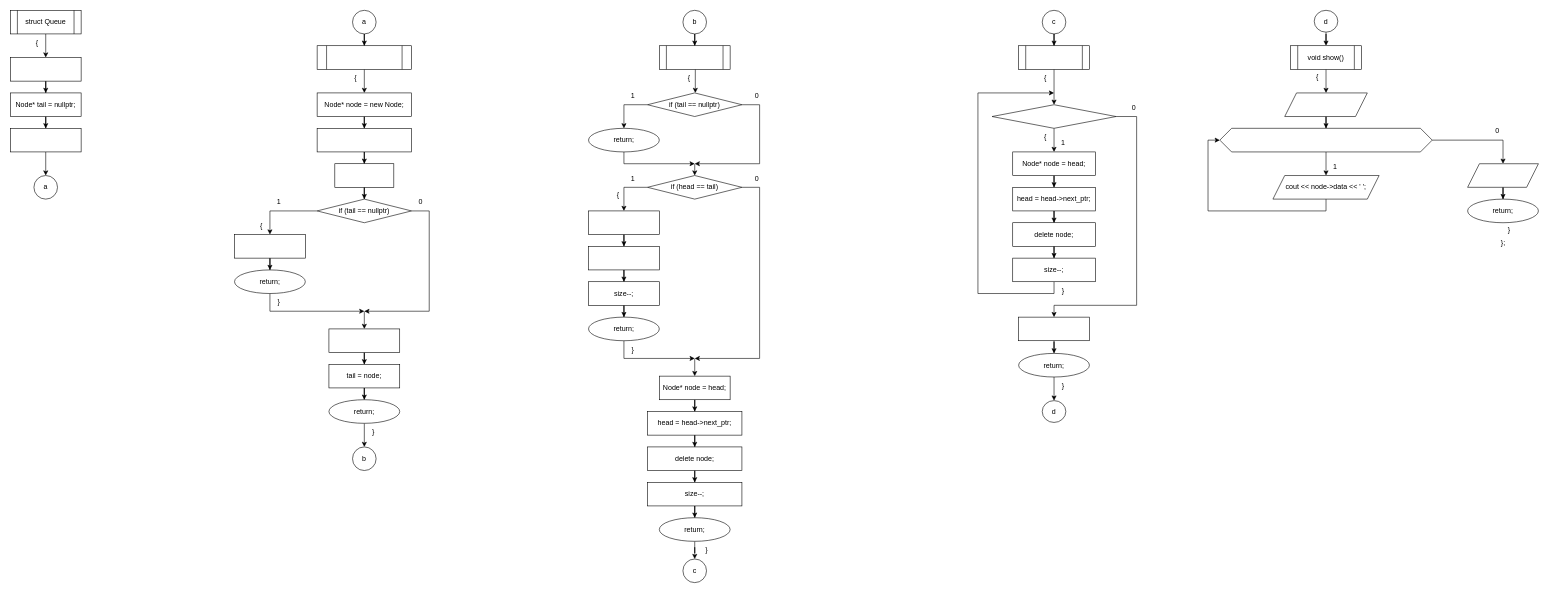
The diagram is 1549 pixels wide and 593 high, and some of its shapes have lost their labels. The shapes that lost their labels are listed below. From the top down, each one's centre as x and y in pixels, then its label:
pixel 45 69: Node* head = nullptr;
pixel 364 57: void push(char data)
pixel 694 57: void pop()
pixel 1053 57: void clear()
pixel 1053 116: while (head != nullptr)
pixel 1325 104: cout << "Очередь: ";
pixel 45 140: int size = 0;
pixel 364 140: node->init_node(data);
pixel 1325 140: for (Node* node = head; node != nullptr; node = node->next_ptr)
pixel 364 175: size++;
pixel 1502 175: cout << endl;
pixel 623 222: delete head;
pixel 269 246: head = tail = node;
pixel 623 258: head = tail = nullptr;
pixel 364 340: tail->next_ptr = node;
pixel 1053 329: tail = nullptr;
